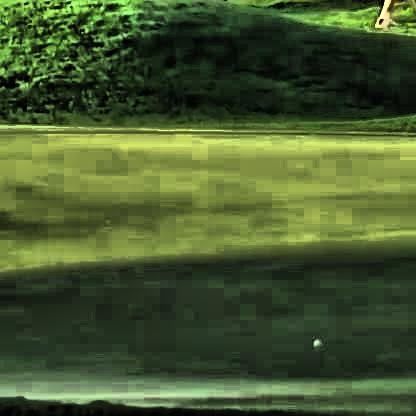golfball: (310, 335, 317, 345)
